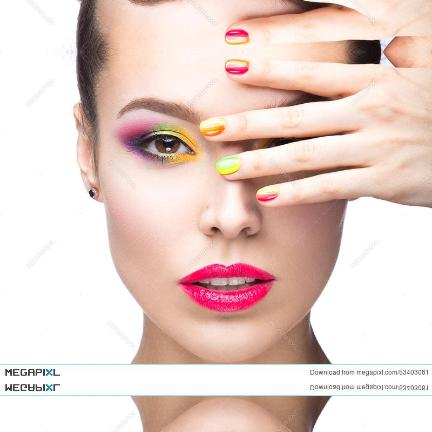Nail: (200, 118, 226, 135), (216, 156, 240, 174), (225, 58, 250, 74), (225, 28, 250, 44), (256, 186, 279, 201)
